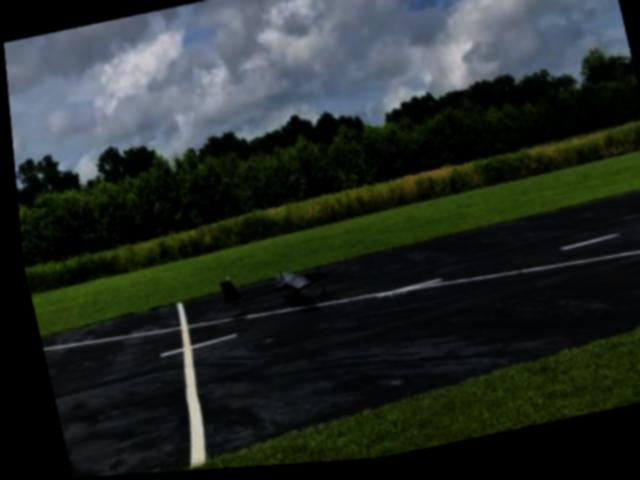uav: (207, 253, 334, 327)
